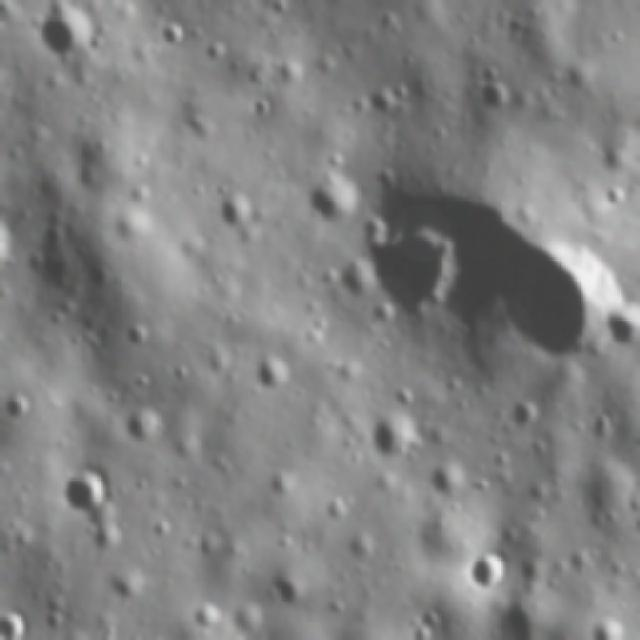crater: (499, 217, 616, 377), (340, 209, 465, 348), (30, 8, 101, 72), (51, 460, 117, 526), (301, 163, 361, 231), (364, 408, 422, 472), (246, 350, 300, 399), (462, 543, 512, 595), (122, 404, 170, 448), (422, 463, 468, 508), (603, 298, 640, 350), (501, 397, 545, 437), (469, 80, 511, 118), (587, 404, 624, 445), (158, 22, 198, 58), (358, 88, 396, 125), (269, 570, 305, 608), (124, 316, 154, 352), (1, 607, 32, 640), (247, 96, 276, 129), (4, 391, 30, 422)
